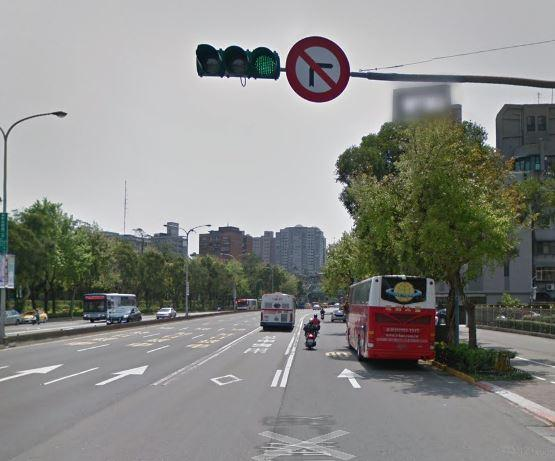green_traffic_light: (194, 42, 281, 82)
